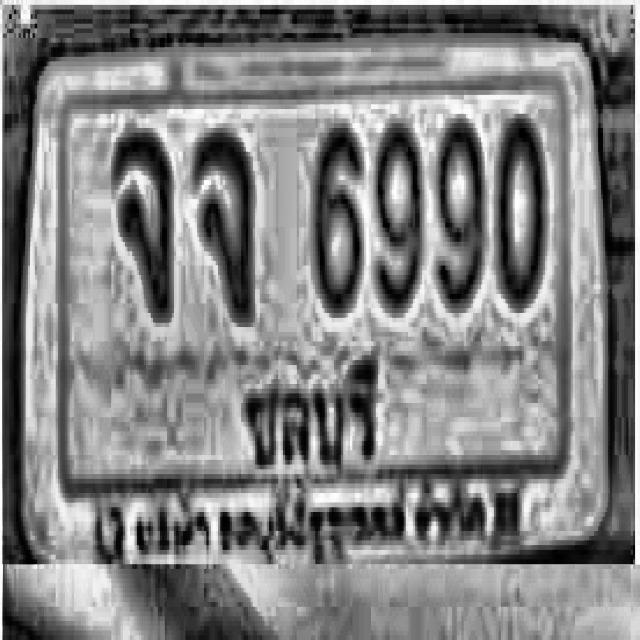license-plate: (24, 30, 607, 559)
